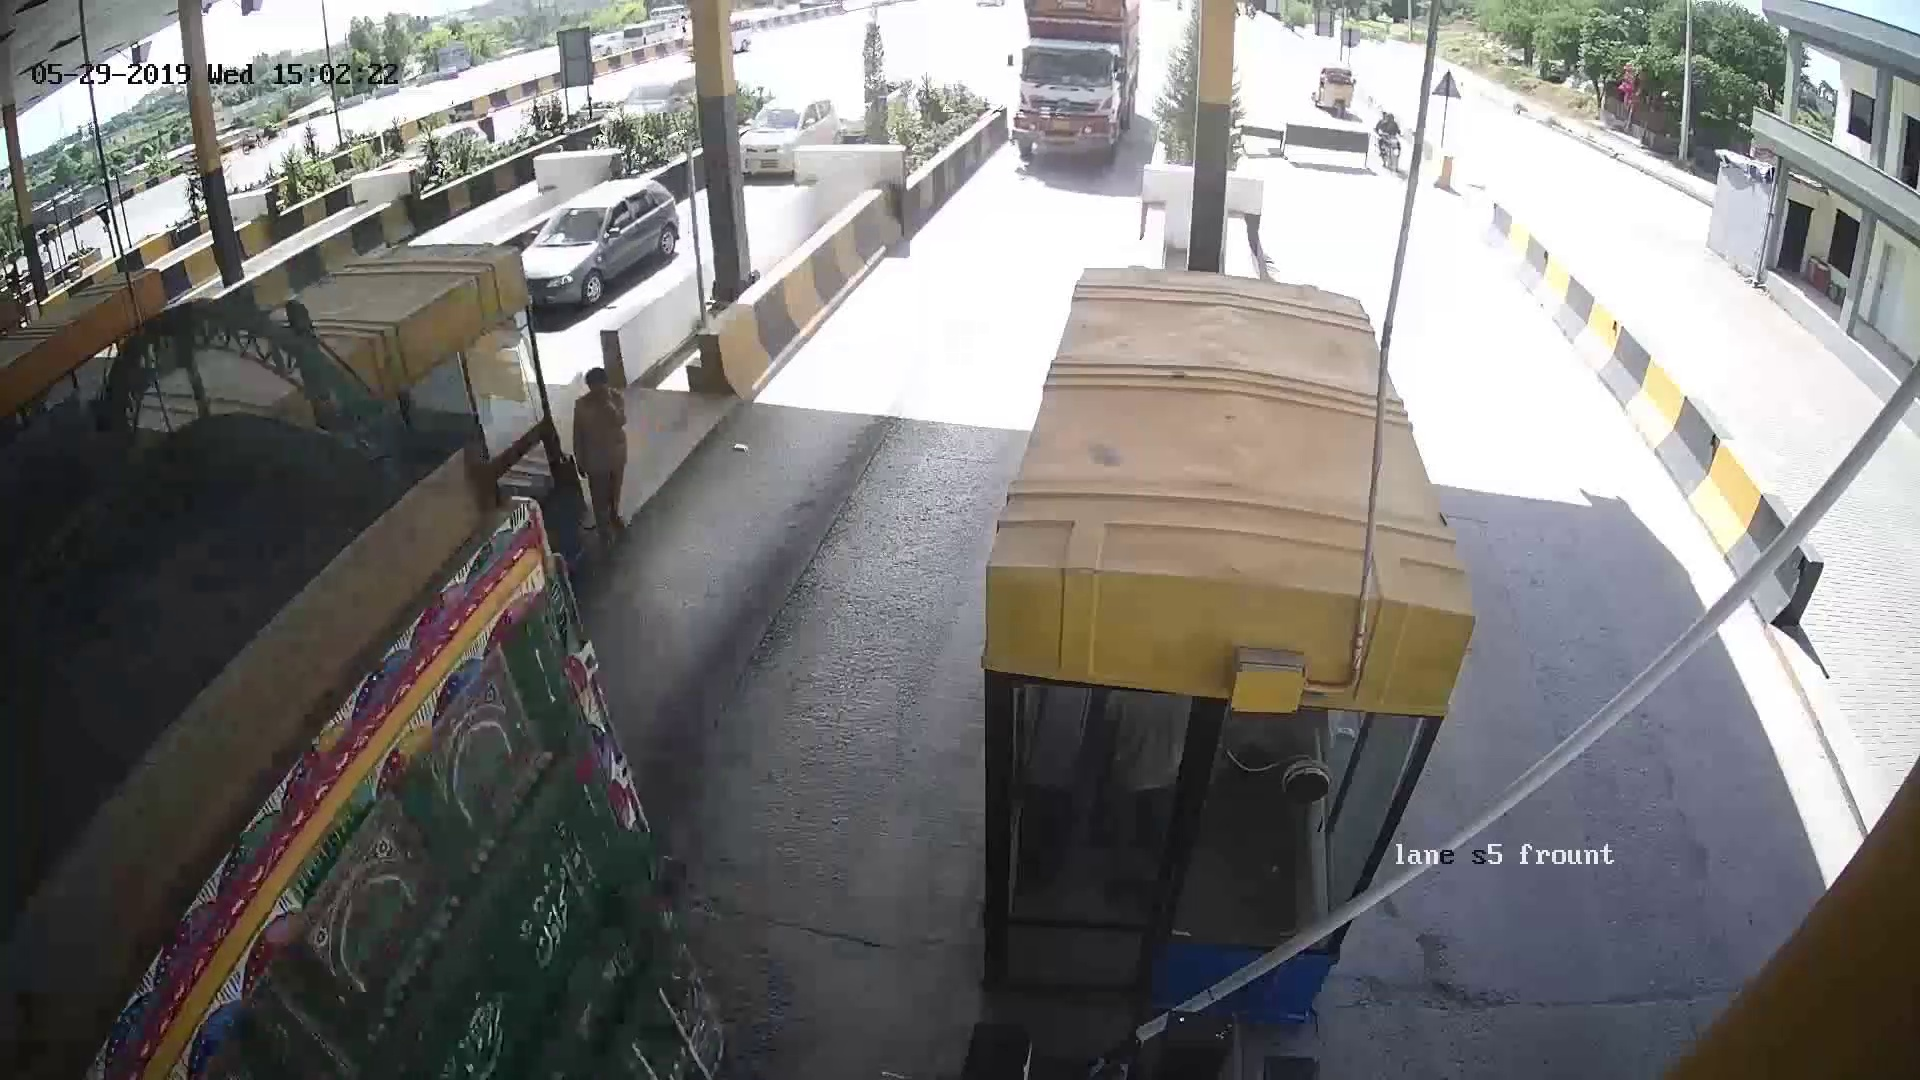truck: (1009, 9, 1129, 171)
